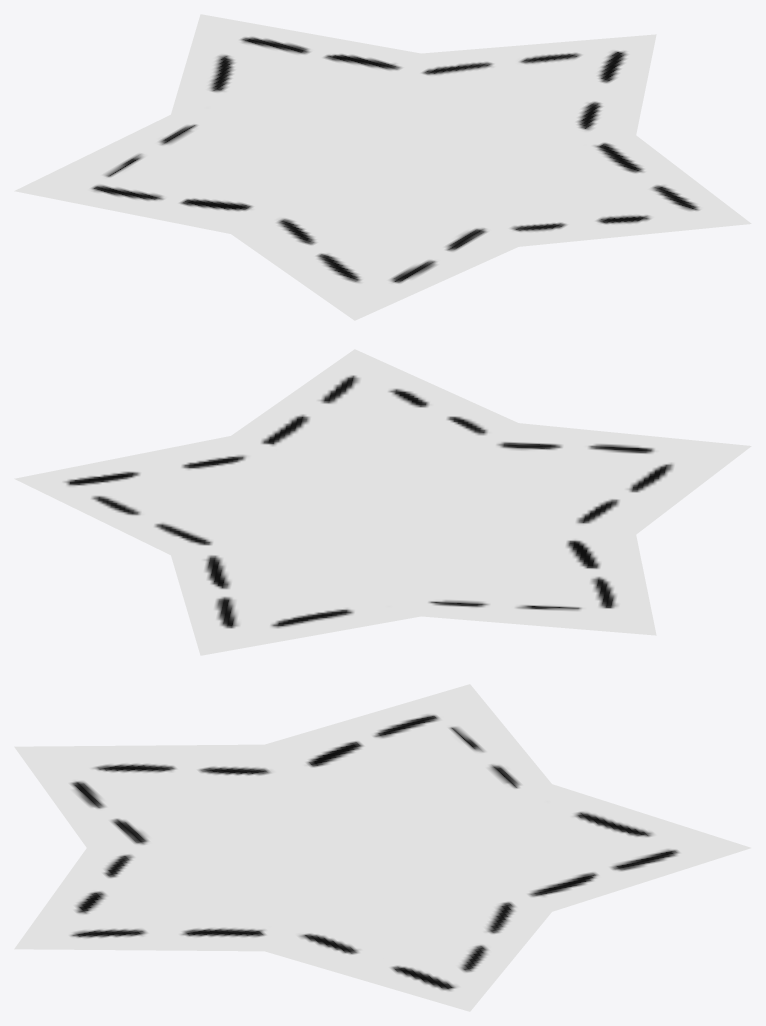
The model's file is patch-star.fbx.
3 renders of one model, top to bottom at view 1: azimuth 30°, elevation 25°; view 2: azimuth 150°, elevation 25°; view 3: azimuth 270°, elevation 25°, orthographic. The views are drawn at different scales.
Parts seen in each view (by area): view 1: patch-star; view 2: patch-star; view 3: patch-star.
Boxes of the visible parts, x1,y1,x2,y2 form: patch-star: (14,14,751,320); patch-star: (14,349,751,655); patch-star: (14,684,750,1011).
Size of the model in its own units: 19.72 by 4.18e-09 by 18.75.
Materials: 1 (1 with a texture image).
